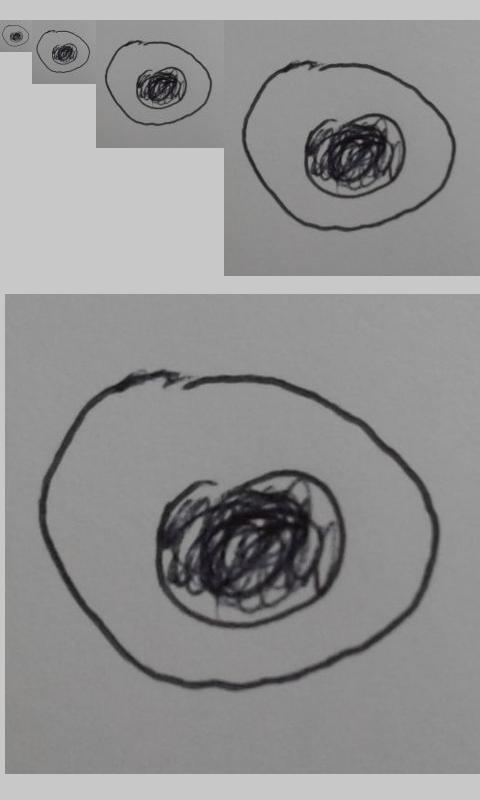radio_button: (31, 363, 445, 698), (239, 59, 458, 233), (104, 39, 213, 127), (35, 29, 91, 74), (1, 24, 30, 48)
